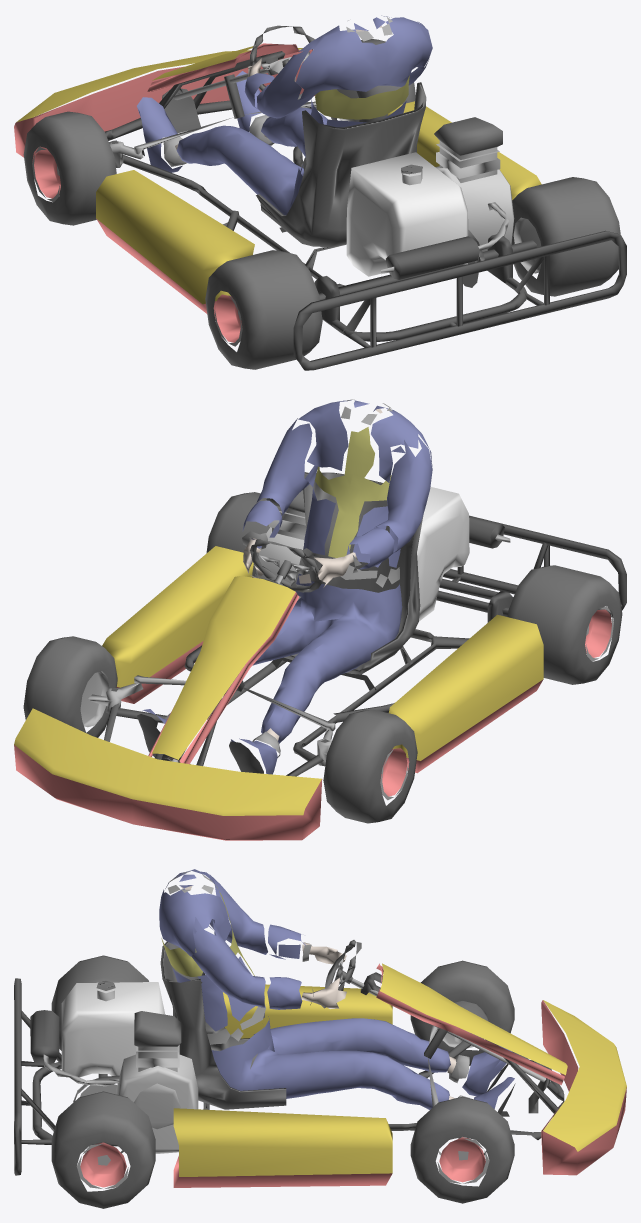
The model's file is kart-lod.glb.
3 views of the same model, one above another, from view 1: azimuth 30°, elevation 25°; view 2: azimuth 150°, elevation 25°; view 3: azimuth 270°, elevation 25° (orthographic). The views are drawn at different scales.
Visible parts, largest first — view 1: body, chassis, engine, driver, wheel_rl, wheel_rr, wheel_fl, arm_l, wheel_fr, steer_rim; view 2: body, driver, chassis, wheel_rl, wheel_fl, engine, wheel_fr, arm_l, arm_r, wheel_rr, steer_rim, hand_l (+3 smaller); view 3: body, driver, engine, wheel_rr, wheel_fr, chassis, wheel_fl, arm_r, wheel_rl, arm_l, forearm_r, hand_r (+4 smaller).
Part boxes in pixels (left/top/right/bottom): body: left=14, top=43, right=541, bottom=319; chassis: left=105, top=51, right=626, bottom=370; engine: left=346, top=117, right=514, bottom=279; driver: left=137, top=15, right=432, bottom=215; wheel_rl: left=205, top=250, right=322, bottom=369; wheel_rr: left=511, top=177, right=620, bottom=296; wheel_fl: left=23, top=111, right=116, bottom=225; arm_l: left=257, top=46, right=323, bottom=153; wheel_fr: left=331, top=39, right=415, bottom=122; steer_rim: left=250, top=25, right=314, bottom=99; body: left=14, top=472, right=543, bottom=840; driver: left=137, top=399, right=432, bottom=774; chassis: left=88, top=515, right=626, bottom=776; wheel_rl: left=507, top=565, right=622, bottom=684; wheel_fl: left=323, top=709, right=417, bottom=823; engine: left=255, top=472, right=510, bottom=621; wheel_fr: left=23, top=636, right=117, bottom=737; arm_l: left=376, top=434, right=432, bottom=567; arm_r: left=256, top=418, right=312, bottom=515; wheel_rr: left=206, top=492, right=269, bottom=577; steer_rim: left=250, top=539, right=322, bottom=592; hand_l: left=298, top=552, right=377, bottom=588; body: left=160, top=941, right=626, bottom=1187; driver: left=159, top=869, right=515, bottom=1114; engine: left=30, top=981, right=198, bottom=1153; wheel_rr: left=51, top=1091, right=155, bottom=1208; wheel_fr: left=410, top=1096, right=514, bottom=1203; chassis: left=14, top=972, right=564, bottom=1175; wheel_fl: left=410, top=960, right=514, bottom=1065; arm_r: left=191, top=917, right=265, bottom=1031; wheel_rl: left=51, top=955, right=148, bottom=1050; arm_l: left=208, top=874, right=267, bottom=954; forearm_r: left=267, top=977, right=302, bottom=1009; hand_r: left=240, top=978, right=346, bottom=1029.
Bounding box in the file's own units: 1.15 × 0.7927 × 1.77.
